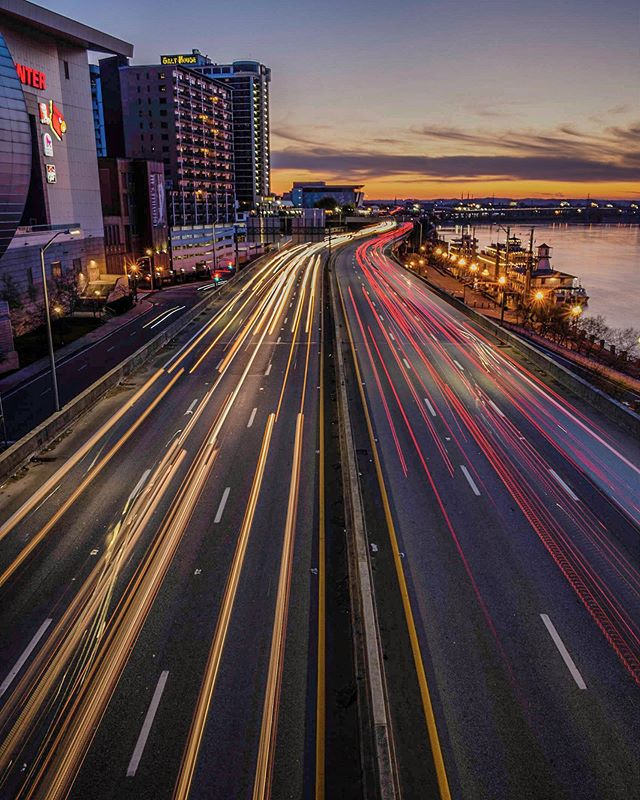building: (1, 38, 104, 391), (117, 59, 231, 244), (225, 50, 277, 236)
road: (1, 246, 640, 800)
sea: (482, 219, 640, 343)
sky: (275, 1, 640, 191)
